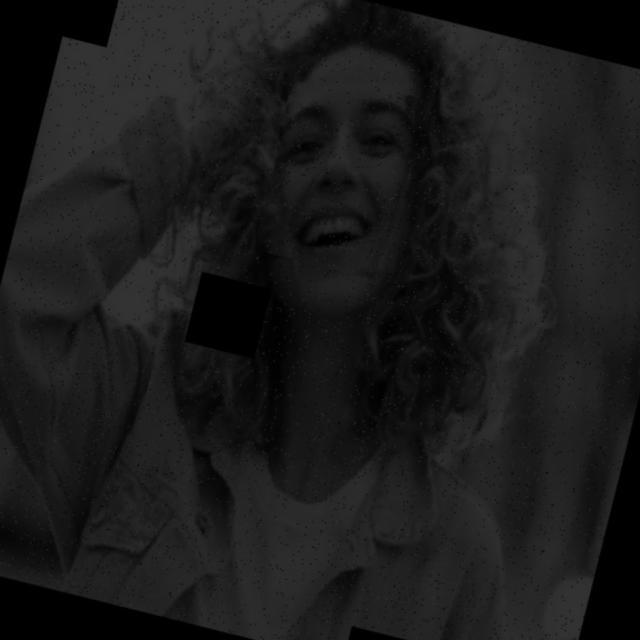Happy: (206, 22, 461, 306)
